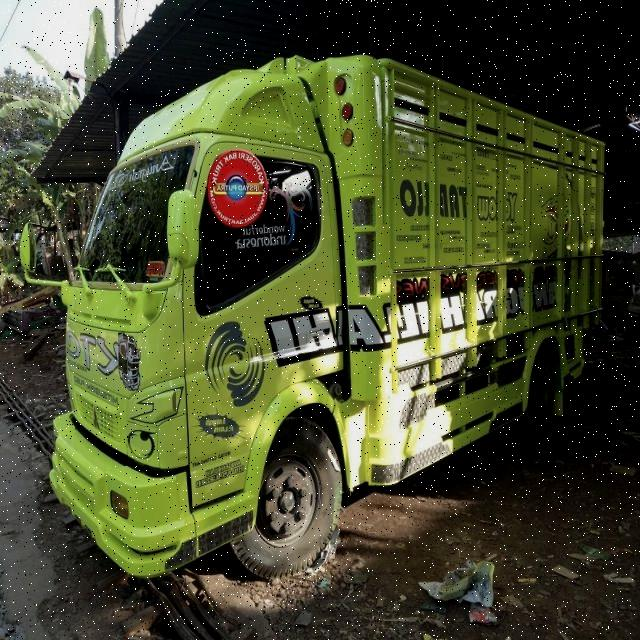truck: (21, 37, 609, 586)
